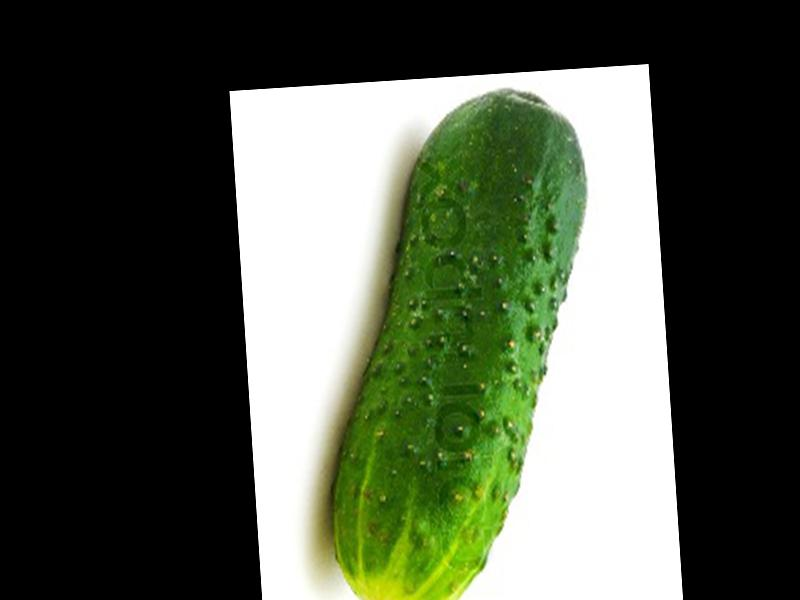Cucumber: (304, 87, 614, 600)
